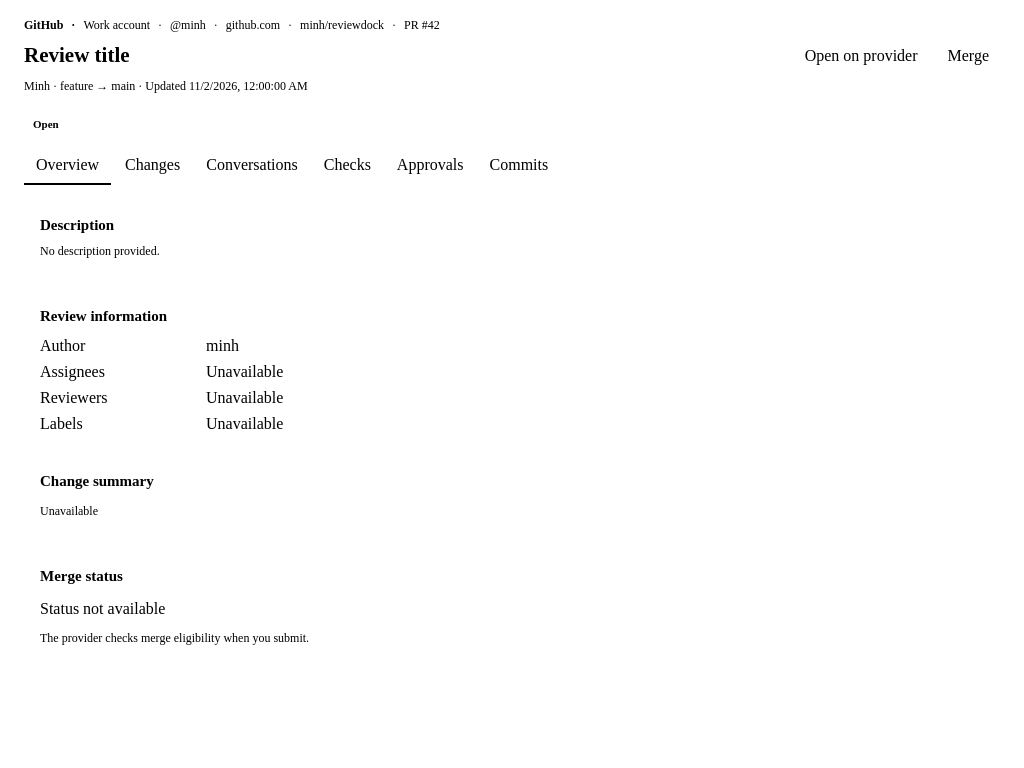
Scenario: ReviewDock webview entry point › shows a truthful empty state after checks load successfully with no results
Later steps or results of the test are not shown.
Click the button "Checks" at (347, 165), box [312,145,383,185]
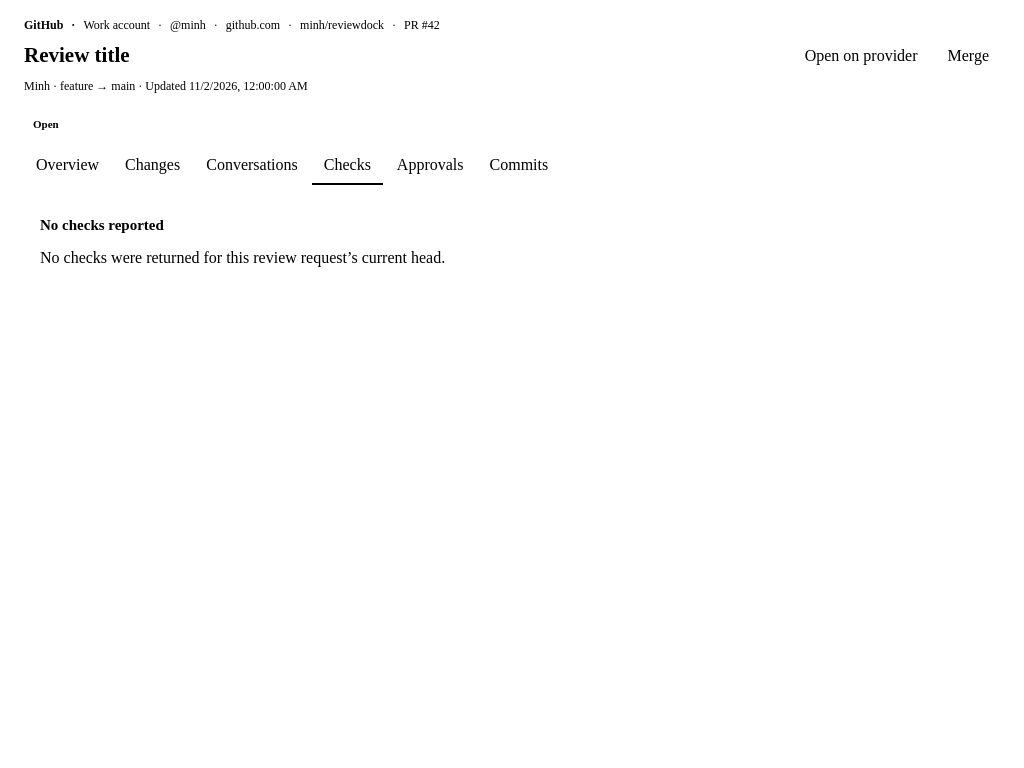
Expected: the text "No checks reported" is shown, [40,217,164,233]
